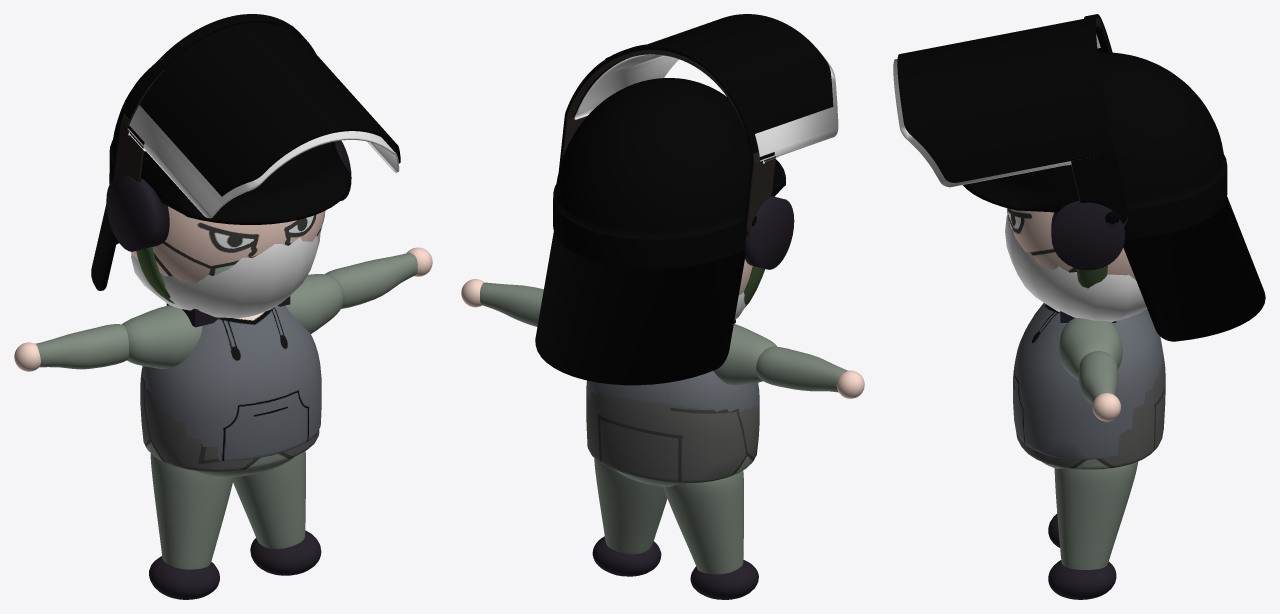
The model's file is policeModel2.fbx.
3 renders of one model, left to right at view 1: azimuth 30°, elevation 25°; view 2: azimuth 150°, elevation 25°; view 3: azimuth 270°, elevation 25°, orthographic. The views are drawn at different scales.
Visible parts, largest first — view 1: Cylinder.001, Cube.009, Cube.005, Sphere.002, headball, Cube, Cube.004, Cube.003, Cylinder.003, body, Cube.006, Cylinder.004 (+3 smaller); view 2: Sphere.002, Cylinder.001, body, Cube.005, Cylinder.003, Cube.004, Cube.009, Cube.006, Cylinder.002, Cylinder.004, Cube.003, Sphere.001; view 3: Sphere.002, Cylinder.001, Cube.009, Cube.005, headball, Cylinder, body, Cube, Cube.003, Cube.006, Cube.004, Cylinder.003 (+1 smaller).
Part boxes in pixels (bbox=[...]): Cylinder.001: bbox=[122, 14, 400, 196]; Cube.009: bbox=[142, 305, 321, 461]; Cube.005: bbox=[150, 451, 305, 569]; Sphere.002: bbox=[91, 64, 350, 290]; headball: bbox=[131, 232, 320, 318]; Cube: bbox=[130, 206, 325, 283]; Cube.004: bbox=[35, 252, 417, 369]; Cube.003: bbox=[122, 274, 344, 368]; Cylinder.003: bbox=[128, 105, 399, 218]; body: bbox=[140, 366, 319, 471]; Cube.006: bbox=[149, 530, 321, 599]; Cylinder.004: bbox=[106, 176, 169, 251]; Sphere.002: bbox=[535, 78, 785, 385]; Cylinder.001: bbox=[558, 14, 833, 230]; body: bbox=[586, 391, 759, 483]; Cube.005: bbox=[594, 458, 743, 574]; Cylinder.003: bbox=[574, 54, 838, 163]; Cube.004: bbox=[480, 282, 847, 392]; Cube.009: bbox=[586, 371, 759, 411]; Cube.006: bbox=[592, 536, 758, 599]; Cylinder.002: bbox=[562, 50, 775, 236]; Cylinder.004: bbox=[744, 196, 794, 269]; Cube.003: bbox=[713, 324, 777, 385]; Sphere.001: bbox=[461, 279, 864, 398]; Sphere.002: bbox=[963, 52, 1265, 341]; Cylinder.001: bbox=[897, 14, 1128, 223]; Cube.009: bbox=[1013, 303, 1163, 459]; Cube.005: bbox=[1054, 461, 1138, 569]; headball: bbox=[1005, 214, 1146, 321]; Cylinder: bbox=[1051, 201, 1124, 270]; body: bbox=[1016, 350, 1165, 469]; Cube: bbox=[1006, 208, 1135, 279]; Cube.003: bbox=[1059, 318, 1122, 380]; Cube.006: bbox=[1048, 513, 1116, 599]; Cube.004: bbox=[1078, 351, 1117, 404]; Cylinder.003: bbox=[893, 33, 1100, 187].
Bounding box in the file's own units: 495 × 639 × 394.
